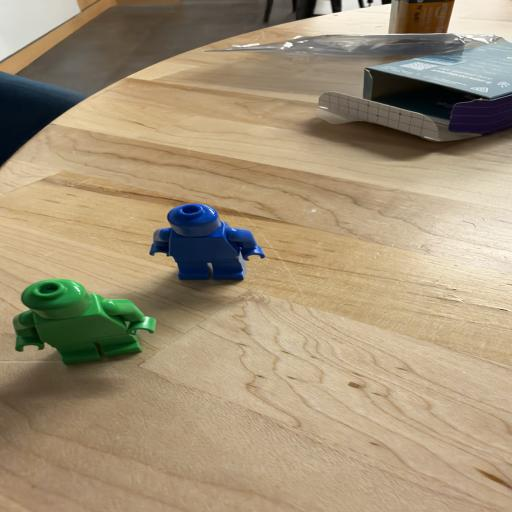blue_minifig: (149, 204, 266, 281)
green_minifig: (12, 278, 158, 366)
